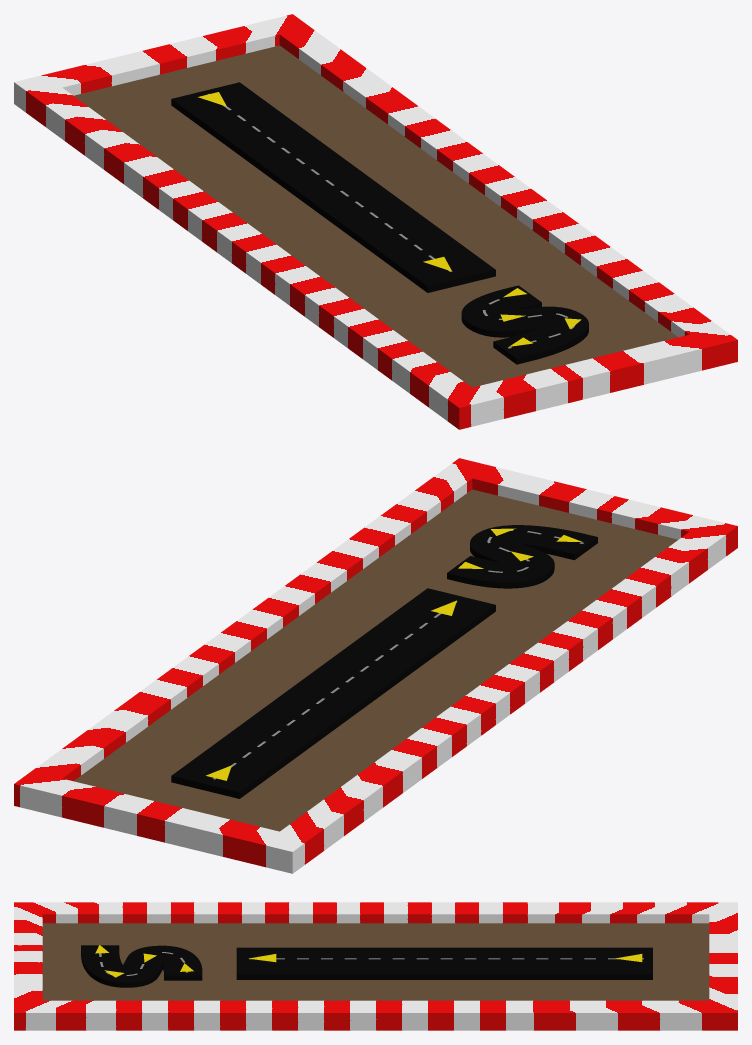
File: alef_hamza_low.FBX
The picture shows the model from 3 angles, top to bottom: view 1: azimuth 30°, elevation 25°; view 2: azimuth 150°, elevation 25°; view 3: azimuth 270°, elevation 25°; orthographic projection. The views are drawn at different scales.
Parts seen in each view (by area): view 1: alf_coll, alf_floor, alf; view 2: alf_coll, alf_floor, alf; view 3: alf_coll, alf_floor, alf, Line0.
Part boxes in pixels (x1=…): alf_coll: x1=14, y1=14, x2=737, y2=429; alf_floor: x1=74, y1=45, x2=677, y2=387; alf: x1=171, y1=82, x2=588, y2=364; alf_coll: x1=14, y1=458, x2=737, y2=873; alf_floor: x1=74, y1=489, x2=677, y2=831; alf: x1=171, y1=525, x2=597, y2=798; alf_coll: x1=14, y1=902, x2=737, y2=1030; alf_floor: x1=42, y1=923, x2=709, y2=1000; alf: x1=81, y1=945, x2=652, y2=987; Line0: x1=249, y1=958, x2=643, y2=959.
Size of the model in its own units: 437 by 32.76 by 1210.
